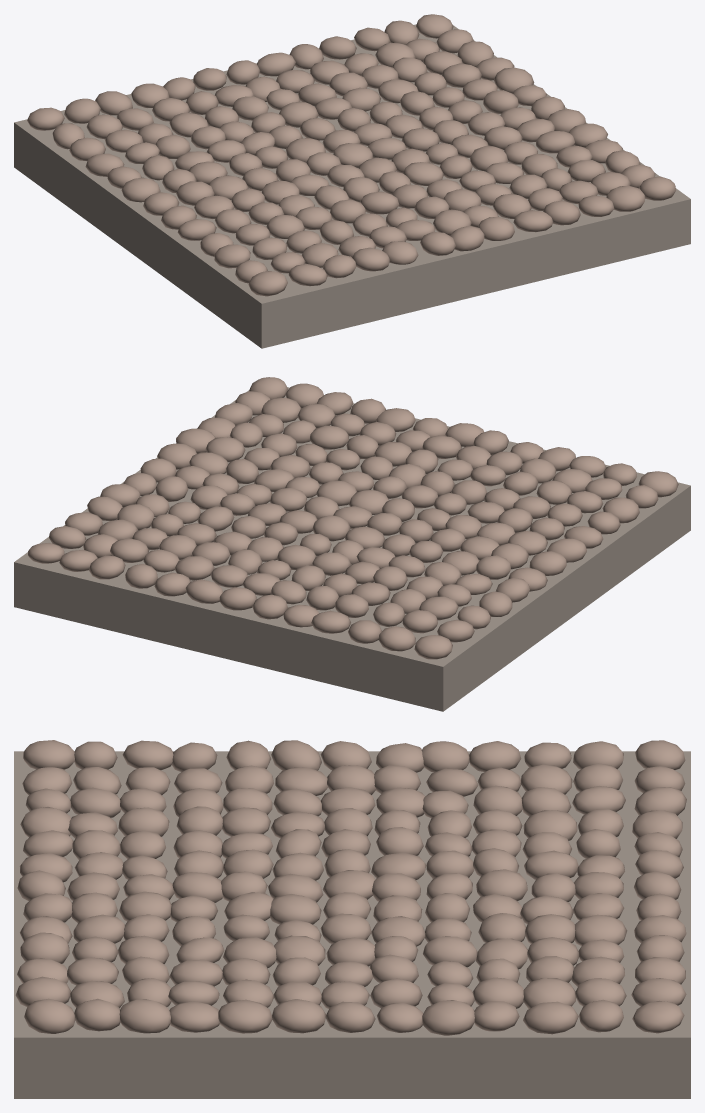
File: 25-cobble-corner.glb
3 views of the same model, one above another, from view 1: azimuth 30°, elevation 25°; view 2: azimuth 150°, elevation 25°; view 3: azimuth 270°, elevation 25° (orthographic). The views are drawn at different scales.
Visible parts, largest first — view 1: Slab, StoneProto.001, StoneProto.144, StoneProto.165, StoneProto.096, StoneProto.104, StoneProto.106, StoneProto.026, StoneProto.088, StoneProto.040, StoneProto.157, StoneProto.105 (+139 smaller); view 2: Slab, StoneProto.013, StoneProto.120, StoneProto.026, StoneProto.116, StoneProto.142, StoneProto.086, StoneProto.052, StoneProto.001, StoneProto.104, StoneProto.145, StoneProto.097 (+142 smaller); view 3: Slab, StoneProto.165, StoneProto.162, StoneProto.161, StoneProto.159, StoneProto.157, StoneProto.167, StoneProto.160, StoneProto.169, StoneProto.126, StoneProto.116, StoneProto.097 (+158 smaller).
Part boxes in pixels (x1,y1,x2,y2): Slab: (14,24,690,348); StoneProto.001: (248,271,287,296); StoneProto.144: (606,185,645,211); StoneProto.165: (494,67,534,93); StoneProto.096: (403,162,443,185); StoneProto.104: (257,52,295,76); StoneProto.106: (492,193,531,218); StoneProto.026: (64,98,100,123); StoneProto.088: (279,102,318,127); StoneProto.040: (352,247,390,271); StoneProto.157: (639,176,675,200); StoneProto.105: (513,210,553,232); Slab: (14,387,690,711); StoneProto.013: (414,635,452,659); StoneProto.120: (310,425,348,449); StoneProto.026: (379,626,415,651); StoneProto.116: (174,556,214,580); StoneProto.142: (110,538,149,562); StoneProto.086: (312,515,350,541); StoneProto.052: (311,610,350,633); StoneProto.001: (638,471,678,497); StoneProto.104: (185,579,222,603); StoneProto.145: (261,397,301,422); StoneProto.097: (316,480,356,506); Slab: (14,751,690,1098); StoneProto.165: (422,1000,474,1035); StoneProto.162: (272,999,325,1033); StoneProto.161: (218,999,272,1033); StoneProto.159: (119,999,170,1033); StoneProto.157: (24,998,75,1033); StoneProto.167: (523,1001,578,1034); StoneProto.160: (169,1001,219,1032); StoneProto.169: (632,1001,684,1033); StoneProto.126: (423,936,477,967); StoneProto.116: (574,914,627,945); StoneProto.097: (269,894,321,924).
Size of the model in its own units: 3 by 0.4122 by 3.
